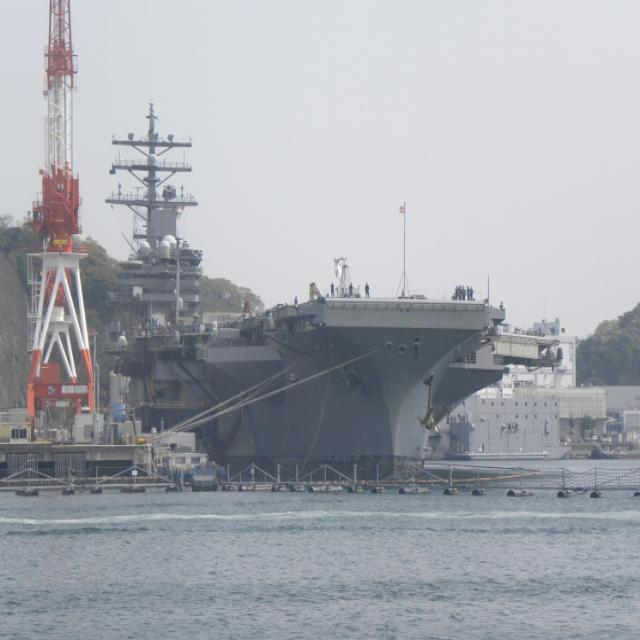Portanaves: (93, 94, 517, 484)
